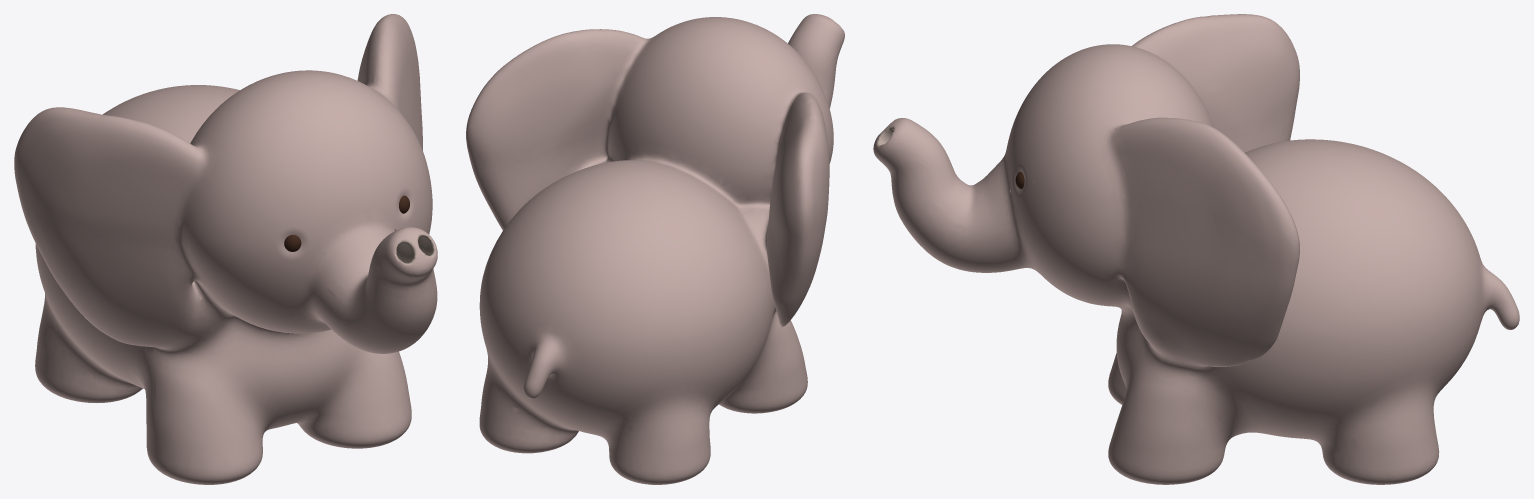
Rendered from jelly-elephant-v25-smooth.glb.
The picture shows the model from 3 angles, left to right: view 1: azimuth 30°, elevation 25°; view 2: azimuth 150°, elevation 25°; view 3: azimuth 270°, elevation 25°; orthographic projection. The views are drawn at different scales.
Visible parts, largest first — view 1: JellyBody; view 2: JellyBody; view 3: JellyBody.
Part boxes in pixels (x1,y1,x2,y2): JellyBody: (14, 14, 437, 484); JellyBody: (466, 14, 844, 484); JellyBody: (873, 14, 1519, 484).
Bounding box in the file's own units: 2.81 × 2.65 × 4.15.
